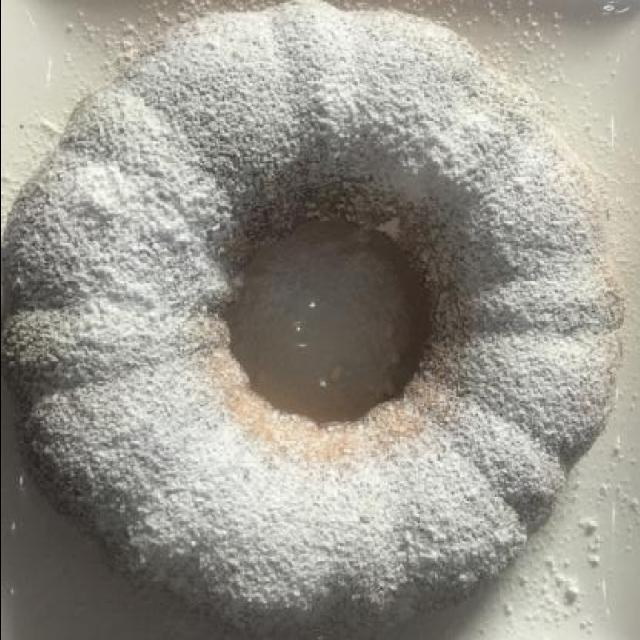Bagel: (7, 0, 620, 632)
